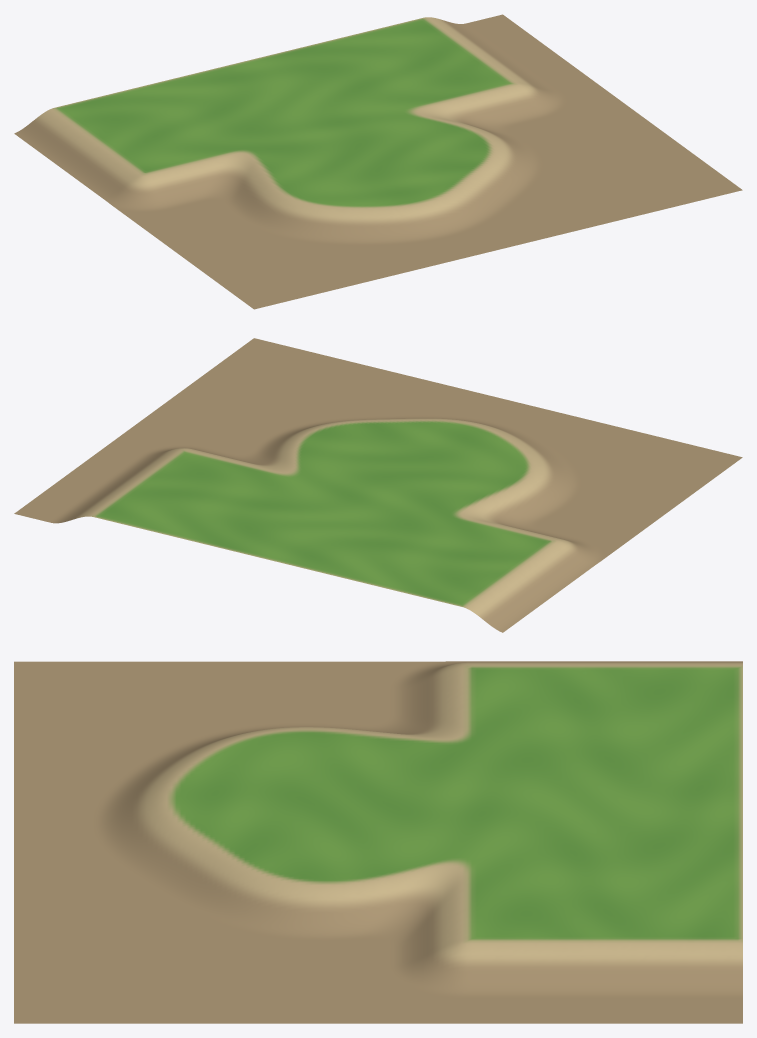
Rendered from terrain_s0.glb.
3 renders of one model, top to bottom at view 1: azimuth 30°, elevation 25°; view 2: azimuth 150°, elevation 25°; view 3: azimuth 270°, elevation 25°, orthographic. The views are drawn at different scales.
Visible parts, largest first — view 1: Terrain; view 2: Terrain; view 3: Terrain.
Boxes of the visible parts, x1,y1,x2,y2 form: Terrain: [14, 14, 742, 309]; Terrain: [14, 338, 742, 632]; Terrain: [14, 661, 742, 1023].
Bounding box in the file's own units: 17.4 × 0.55 × 14.8.
